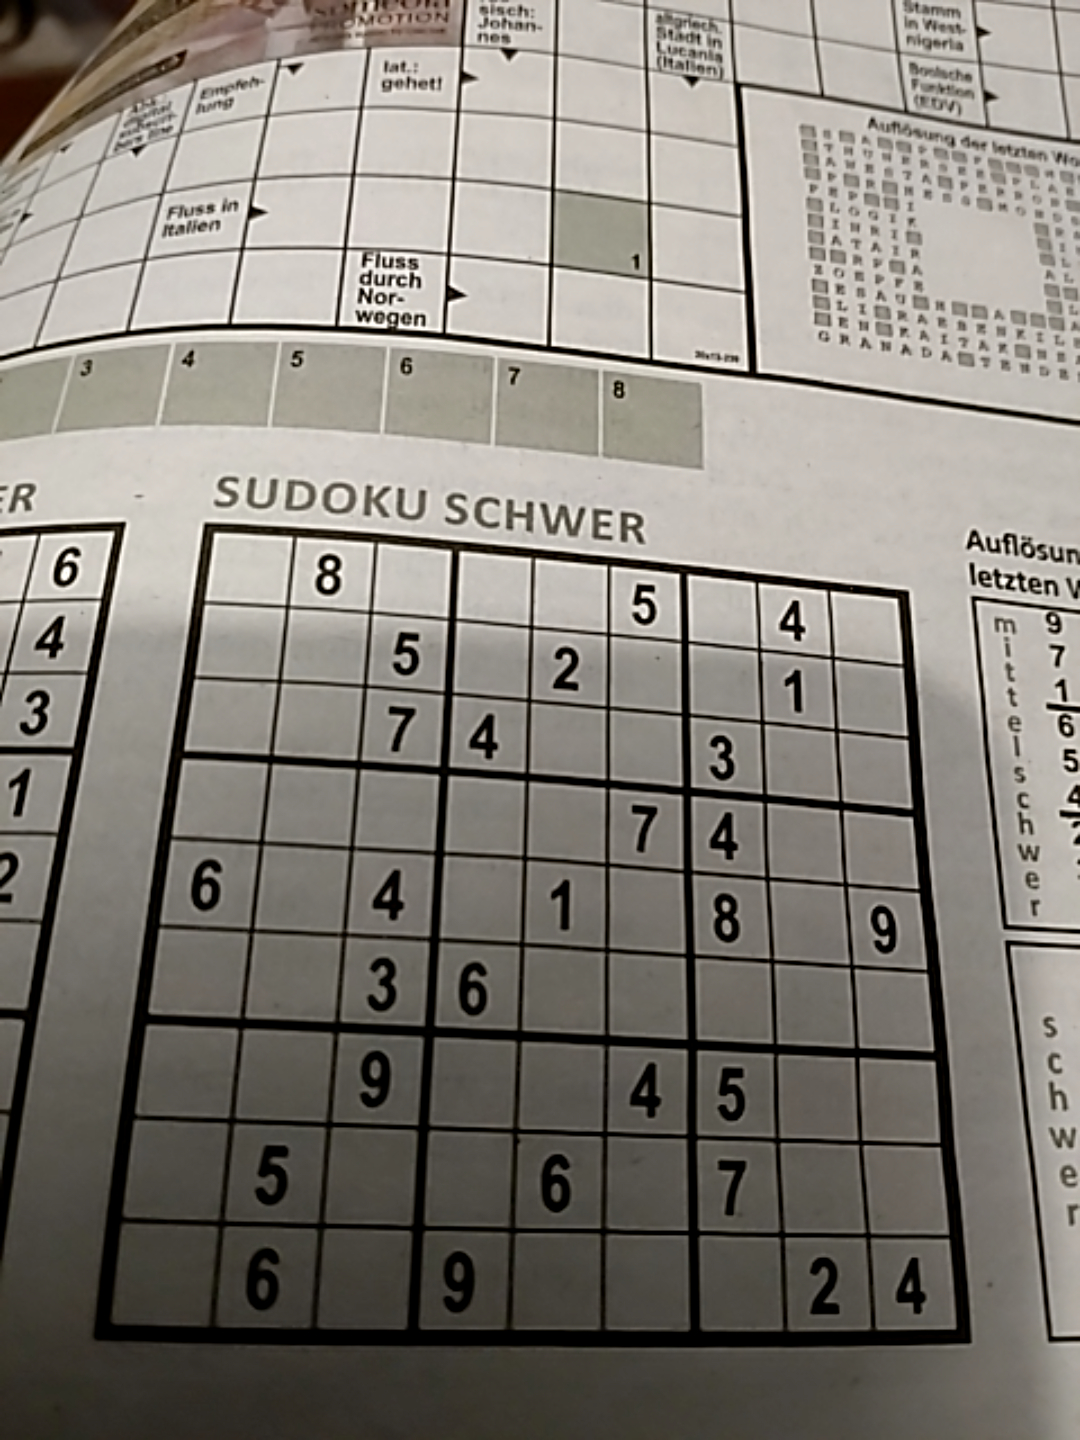sudoku: (107, 521, 972, 1353)
